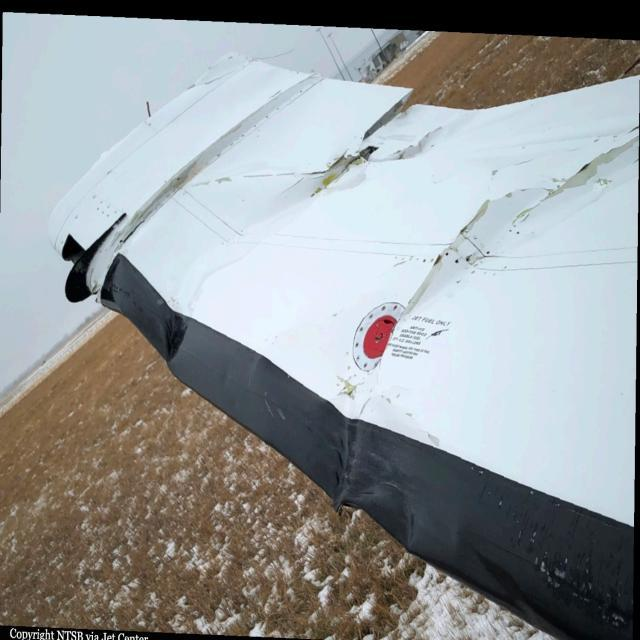crack: (314, 91, 445, 204), (508, 137, 640, 232), (399, 199, 492, 319)
